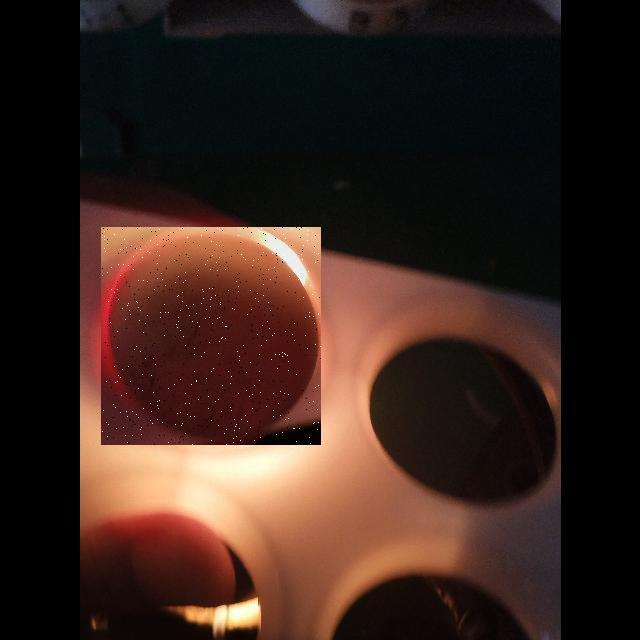Fertile: (101, 227, 321, 445)
